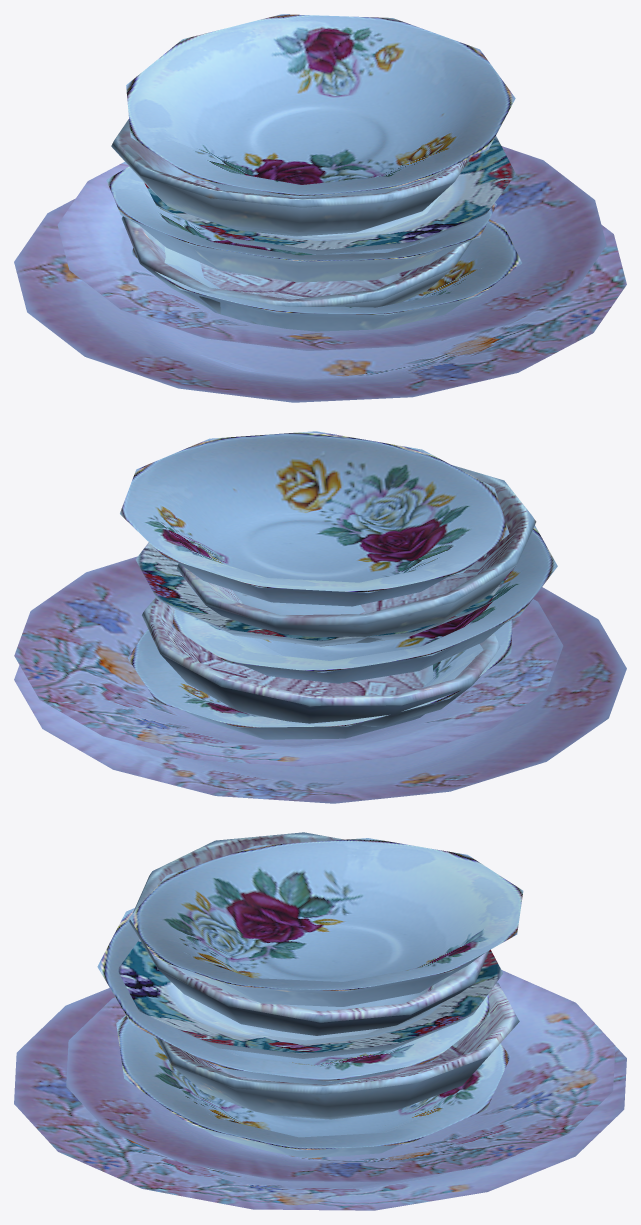
File: stack_dishes-3.FBX
3 renders of one model, top to bottom at view 1: azimuth 30°, elevation 25°; view 2: azimuth 150°, elevation 25°; view 3: azimuth 270°, elevation 25°, orthographic.
Parts seen in each view (by area): view 1: stack_dishes-3_LOD0; view 2: stack_dishes-3_LOD0; view 3: stack_dishes-3_LOD0.
Part boxes in pixels (box(x1,y1,x2,y2)): stack_dishes-3_LOD0: box(14, 14, 626, 402); stack_dishes-3_LOD0: box(14, 431, 626, 803); stack_dishes-3_LOD0: box(14, 832, 626, 1210).
Size of what is drawn, in the model's own units: 14.97 by 6.45 by 14.97.
